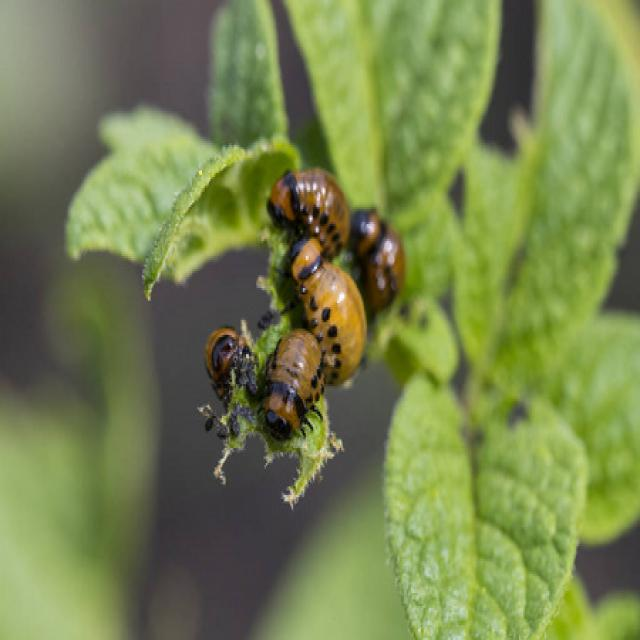ShuCaiHuaBanChong-Larva-: (289, 235, 370, 387), (265, 323, 328, 454), (266, 170, 355, 262)
